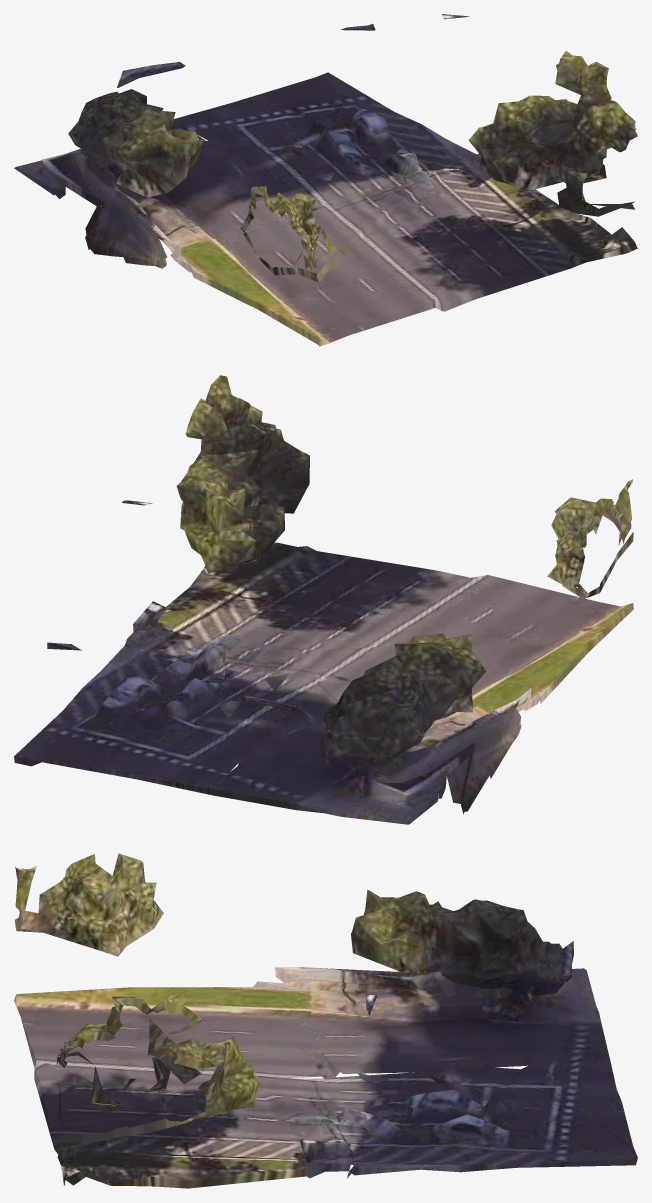
3 views of the same model, one above another, from view 1: azimuth 30°, elevation 25°; view 2: azimuth 150°, elevation 25°; view 3: azimuth 270°, elevation 25° (orthographic). The views are drawn at different scales.
Parts seen in each view (by area): view 1: Mesh_0; view 2: Mesh_0; view 3: Mesh_0.
Part boxes in pixels (x1=…): Mesh_0: x1=14, y1=14, x2=637, y2=346; Mesh_0: x1=14, y1=375, x2=633, y2=824; Mesh_0: x1=14, y1=853, x2=637, y2=1188.
Bounding box in the file's own units: 33.5 × 16.53 × 41.49.
1 material, 1 textured.
